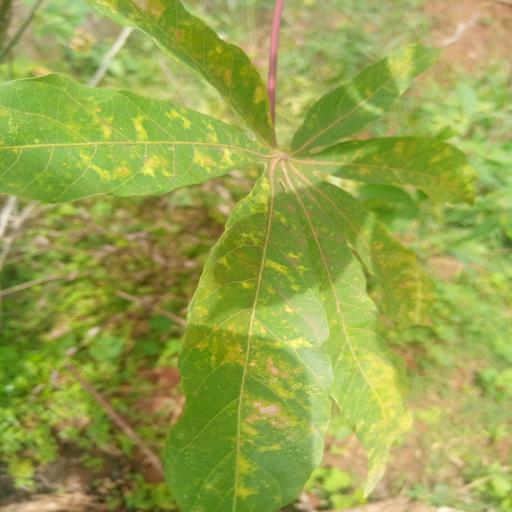Cassava_Mosaic: (2, 0, 480, 512)
